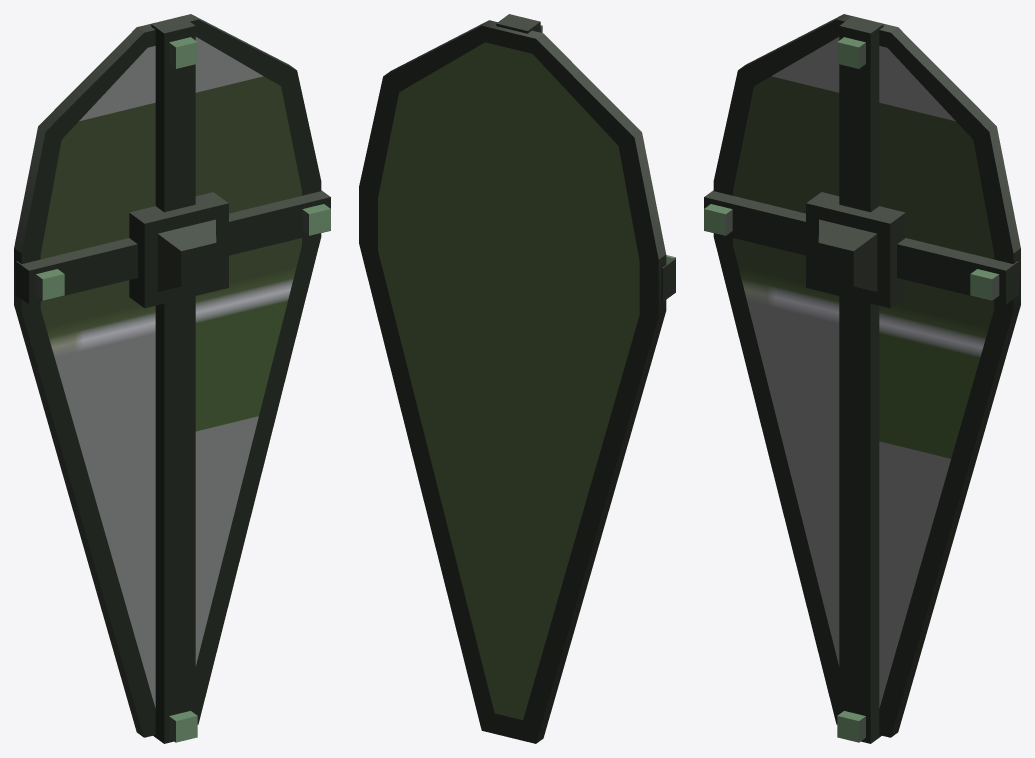
File: SF_Wep_KiteShield_Symbol_012.glb
3 views of the same model, side by side, from view 1: azimuth 30°, elevation 25°; view 2: azimuth 150°, elevation 25°; view 3: azimuth 330°, elevation 25° (orthographic).
Visible parts, largest first — view 1: SF_Wep_KiteShield_Symbol_012; view 2: SF_Wep_KiteShield_Symbol_012; view 3: SF_Wep_KiteShield_Symbol_012.
Boxes of the visible parts, x1,y1,x2,y2 form: SF_Wep_KiteShield_Symbol_012: [14, 14, 330, 743]; SF_Wep_KiteShield_Symbol_012: [359, 14, 675, 743]; SF_Wep_KiteShield_Symbol_012: [704, 14, 1020, 743].
Bounding box in the file's own units: 0.00995 × 0.0224 × 0.00199.
1 material, 1 textured.
